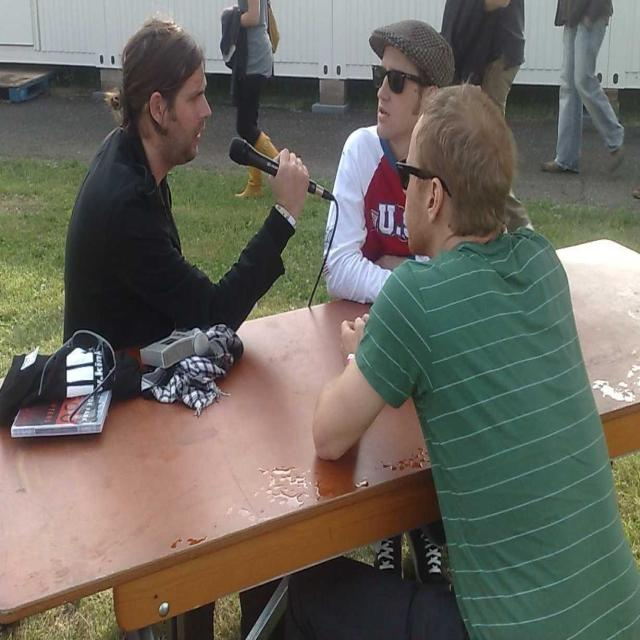microphone: (229, 136, 335, 202)
